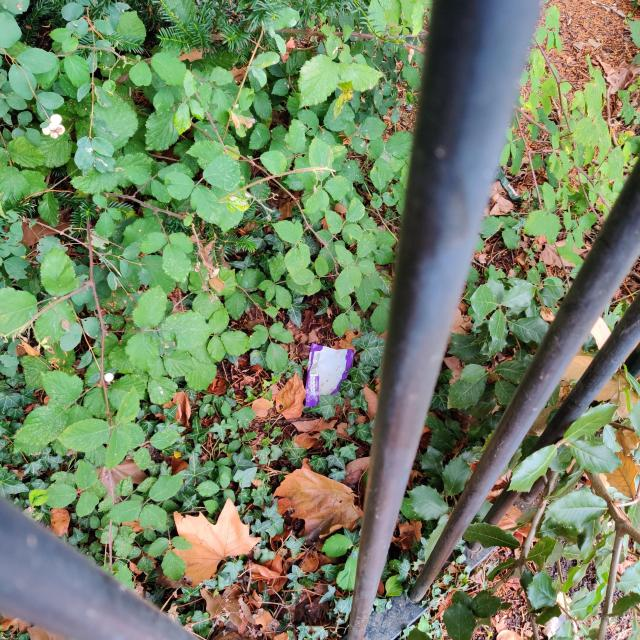litter: (306, 343, 353, 407)
